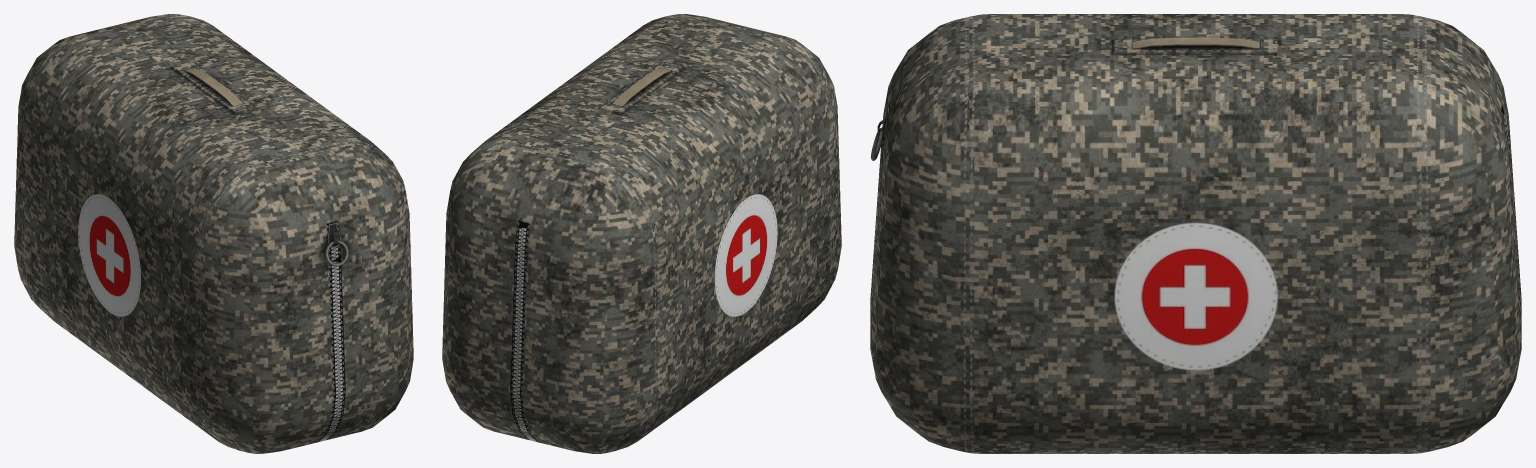
The model's file is medkit.glb.
3 views of the same model, side by side, from view 1: azimuth 30°, elevation 25°; view 2: azimuth 150°, elevation 25°; view 3: azimuth 270°, elevation 25° (orthographic). The views are drawn at different scales.
Visible parts, largest first — view 1: MilitaryFirstAidKit; view 2: MilitaryFirstAidKit; view 3: MilitaryFirstAidKit.
Boxes of the visible parts, left/top/right/bottom form: MilitaryFirstAidKit: left=14, top=14, right=413, bottom=453; MilitaryFirstAidKit: left=442, top=14, right=841, bottom=453; MilitaryFirstAidKit: left=870, top=14, right=1521, bottom=453.
Size of the model in its own units: 0.0977 by 0.1313 by 0.2039.
Materials: 1 (1 with a texture image).
